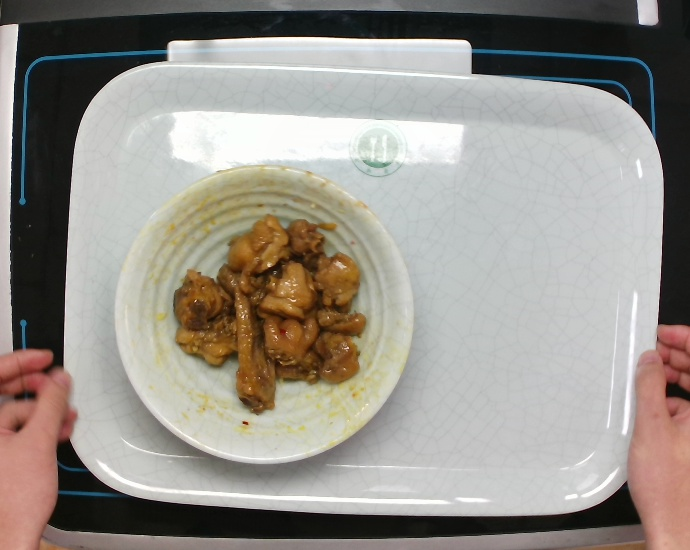JYsf-Xiao_Tang_Wan: (102, 159, 422, 468)
